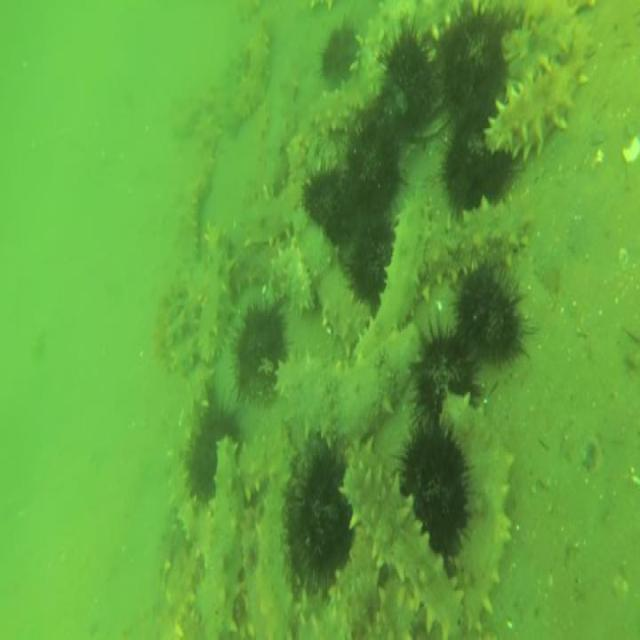echinus: (290, 441, 354, 581), (399, 424, 468, 548), (458, 264, 529, 370), (441, 114, 515, 213), (441, 13, 507, 123), (414, 324, 476, 433), (184, 403, 243, 507), (232, 303, 288, 408), (386, 27, 436, 133), (346, 124, 402, 216), (300, 163, 354, 253), (348, 216, 398, 305), (316, 19, 362, 85)
holothurian: (338, 434, 464, 640), (438, 388, 513, 630), (352, 188, 433, 364), (321, 322, 425, 446), (421, 187, 535, 296), (198, 433, 249, 640), (484, 59, 580, 168), (306, 14, 388, 138), (289, 207, 362, 345), (313, 524, 382, 640), (233, 138, 302, 252), (253, 469, 297, 640), (170, 378, 210, 545), (222, 22, 273, 130), (503, 9, 574, 84), (196, 222, 232, 364), (277, 349, 336, 432), (262, 71, 300, 198), (235, 430, 292, 502), (363, 575, 425, 640), (263, 242, 315, 316), (186, 150, 217, 270)
